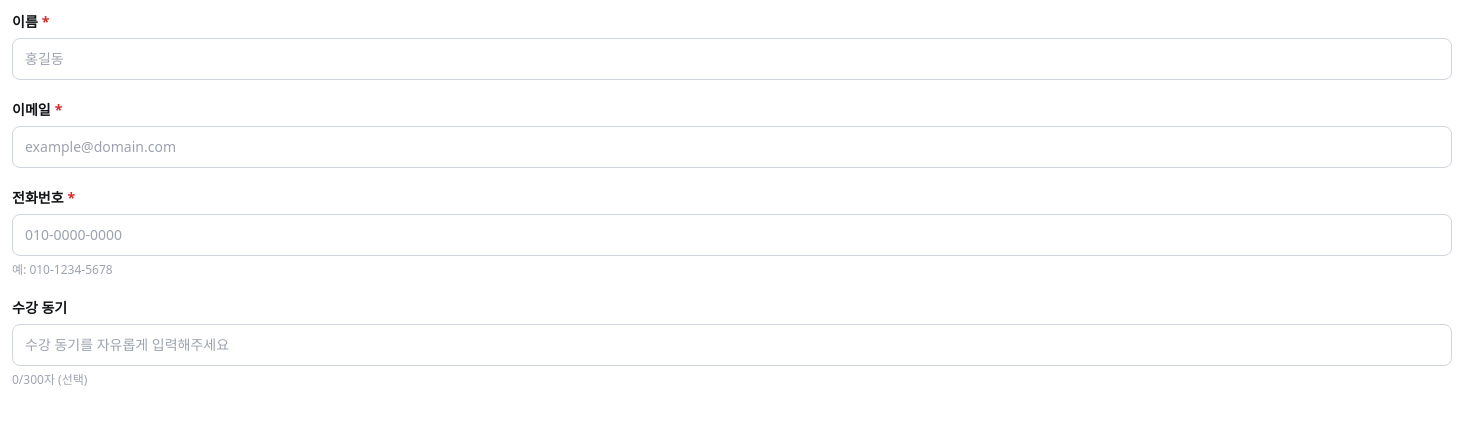
Scenario: ApplicantFields › 이메일 형식 오류 시 blur로 alert 노출
Type "not-email" into the field with placeholder "example@domain.com". click: (732,147)
box: left=12, top=126, right=1452, bottom=168
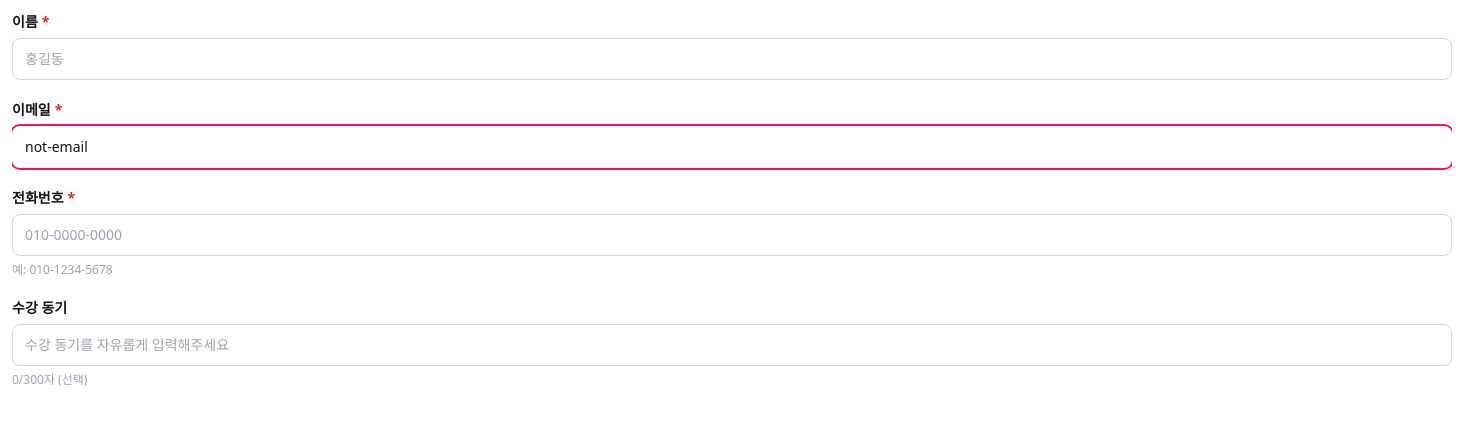
Press Tab
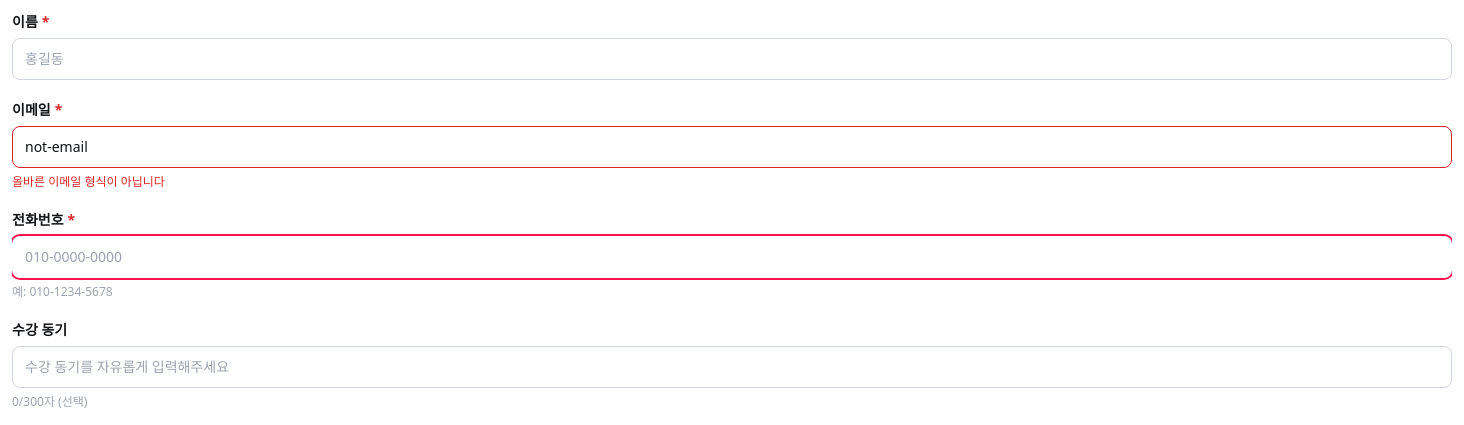
Check: the message shows "이메일", box left=12, top=173, right=165, bottom=190
